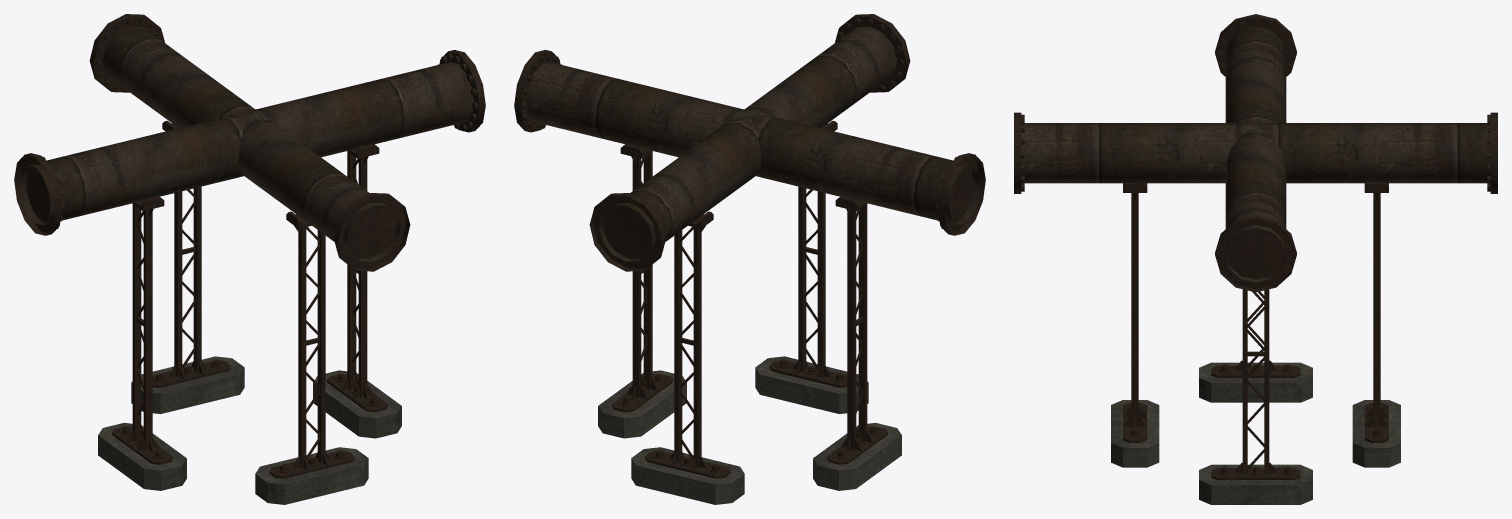
File: pipe_cx_2.obj
3 views of the same model, side by side, from view 1: azimuth 30°, elevation 25°; view 2: azimuth 150°, elevation 25°; view 3: azimuth 270°, elevation 25° (orthographic). The views are drawn at different scales.
Parts seen in each view (by area): view 1: pipe_cx_2; view 2: pipe_cx_2; view 3: pipe_cx_2.
Part boxes in pixels (<box>): pipe_cx_2: <box>14,14,485,504</box>; pipe_cx_2: <box>514,14,985,504</box>; pipe_cx_2: <box>1014,14,1497,504</box>.
Size of the model in its own units: 4 by 2.99 by 4.
